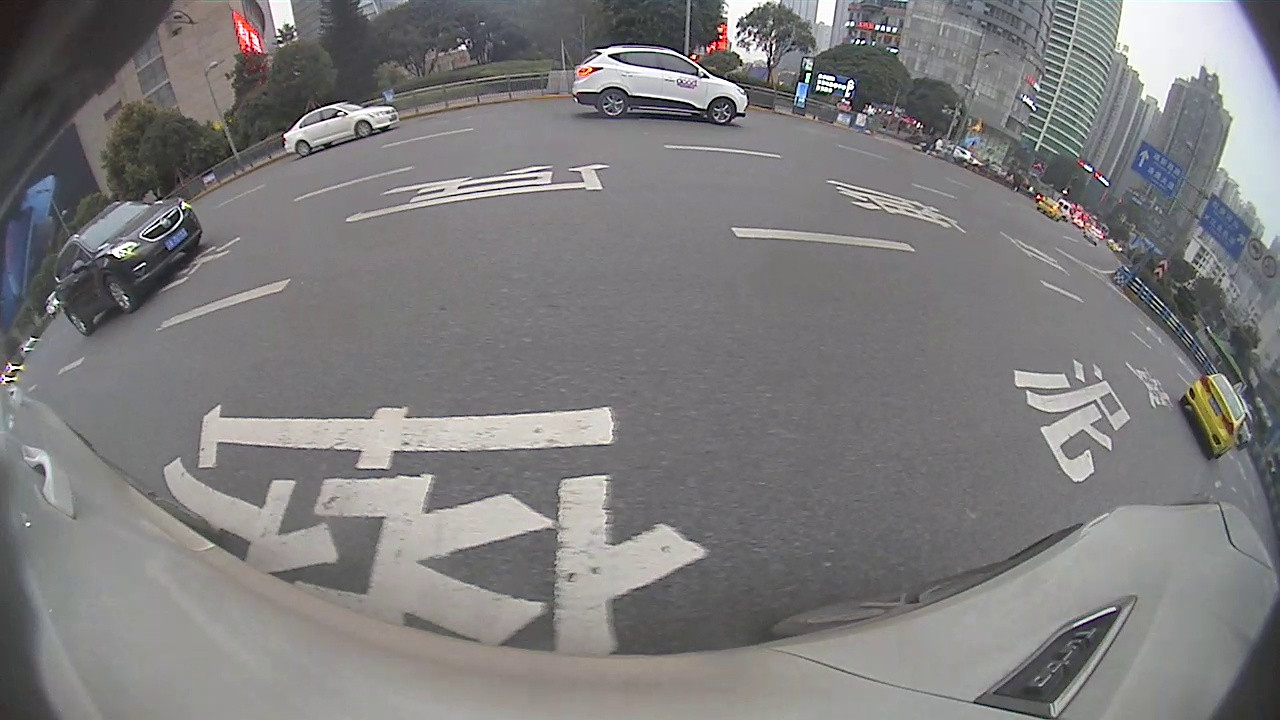car: (52, 199, 204, 337), (571, 42, 751, 127), (281, 101, 400, 158), (1179, 371, 1248, 462)
front: (98, 274, 136, 313), (708, 96, 735, 124), (354, 119, 371, 138)
rear: (598, 89, 630, 118), (64, 306, 89, 336), (293, 139, 312, 158)
